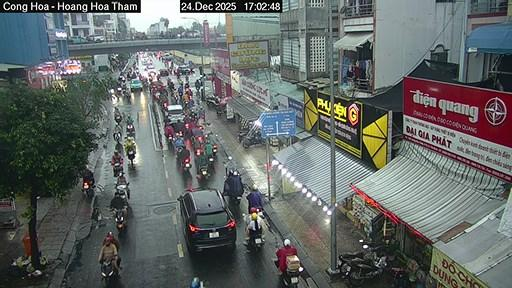motorbike: (336, 239, 384, 275), (348, 256, 386, 286), (281, 261, 303, 287), (224, 183, 248, 206), (101, 259, 114, 286), (243, 133, 265, 147), (248, 229, 262, 250), (115, 183, 130, 202), (114, 208, 124, 234), (204, 94, 220, 107), (198, 165, 210, 179), (83, 180, 92, 198), (236, 130, 248, 142), (127, 148, 134, 166), (125, 122, 134, 136), (112, 162, 121, 175), (112, 130, 121, 142), (214, 106, 224, 116), (182, 157, 189, 170), (207, 153, 214, 166), (114, 113, 121, 124), (124, 90, 130, 100), (275, 259, 278, 265), (295, 256, 297, 259)
